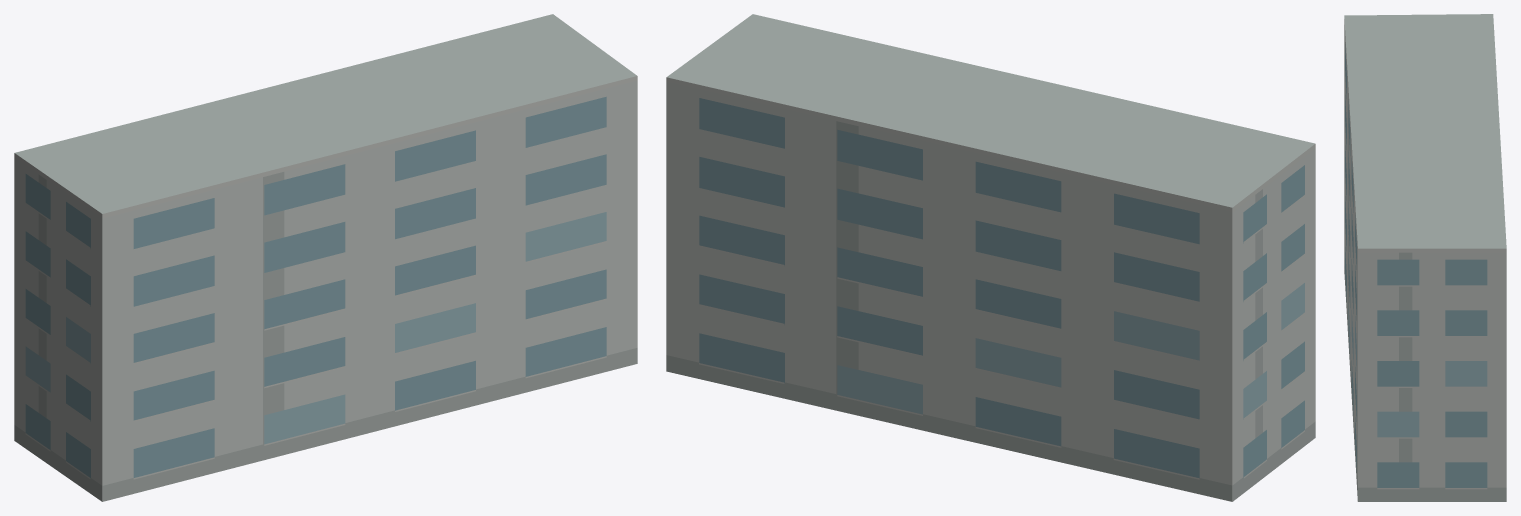
Rendered from residential-86512958-db35-4fed-9a03-132ec6e6cf96.glb.
The picture shows the model from 3 angles, left to right: view 1: azimuth 30°, elevation 25°; view 2: azimuth 150°, elevation 25°; view 3: azimuth 270°, elevation 25°; orthographic projection. The views are drawn at different scales.
Visible parts, largest first — view 1: residential-86512958-db35-4fed-9a03-132ec6e6cf96.tmp; view 2: residential-86512958-db35-4fed-9a03-132ec6e6cf96.tmp; view 3: residential-86512958-db35-4fed-9a03-132ec6e6cf96.tmp.
Part boxes in pixels (x1=…): residential-86512958-db35-4fed-9a03-132ec6e6cf96.tmp: x1=14, y1=14, x2=637, y2=501; residential-86512958-db35-4fed-9a03-132ec6e6cf96.tmp: x1=666, y1=14, x2=1315, y2=501; residential-86512958-db35-4fed-9a03-132ec6e6cf96.tmp: x1=1344, y1=14, x2=1506, y2=501.
Size of the model in its own units: 30.3 by 15.25 by 8.87.
